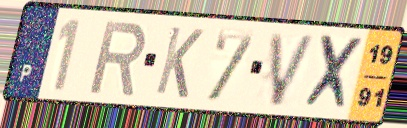1: (52, 17, 83, 93)
7: (206, 26, 258, 104)
K: (152, 23, 206, 102)
R: (87, 18, 149, 98)
V: (267, 30, 319, 109)
X: (300, 32, 366, 114)
